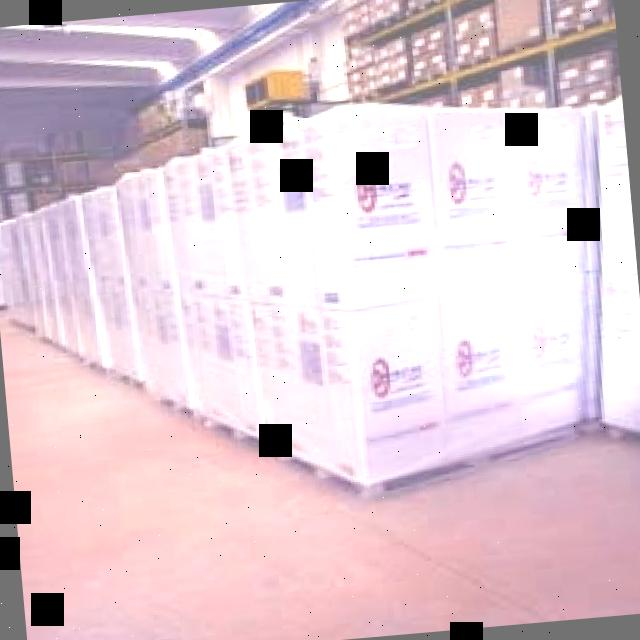box: (308, 109, 439, 304), (224, 296, 350, 463), (414, 100, 522, 290), (333, 304, 449, 478), (508, 102, 599, 281), (212, 145, 313, 298), (432, 294, 532, 445), (524, 278, 608, 424), (137, 171, 220, 303)
